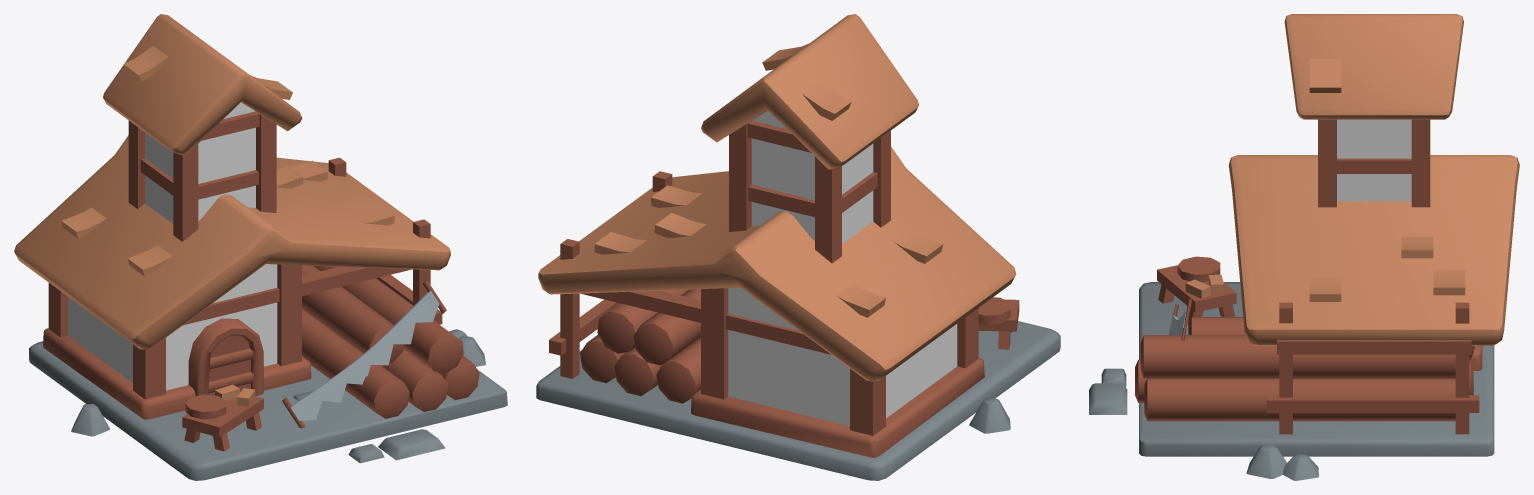
The model's file is lumbermill.glb.
3 renders of one model, left to right at view 1: azimuth 30°, elevation 25°; view 2: azimuth 150°, elevation 25°; view 3: azimuth 270°, elevation 25°, orthographic. The views are drawn at different scales.
Parts seen in each view (by area): view 1: lumbermill; view 2: lumbermill; view 3: lumbermill.
Part boxes in pixels (<box>): lumbermill: <box>14,14,507,480</box>; lumbermill: <box>536,14,1060,480</box>; lumbermill: <box>1089,14,1519,480</box>.
Bounding box in the file's own units: 7.3 × 5.88 × 6.63.
